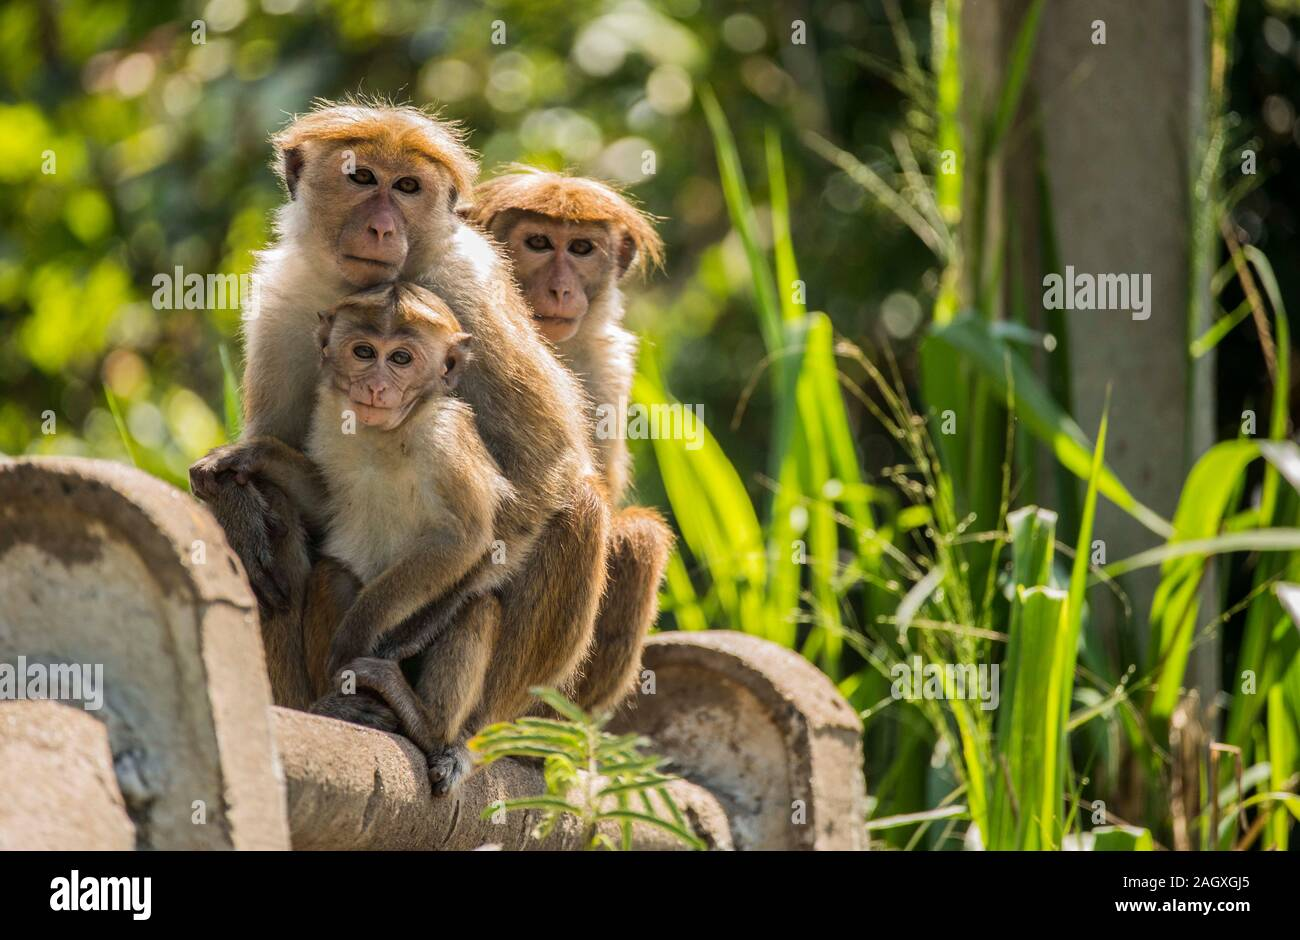Monkey: (235, 84, 659, 724)
